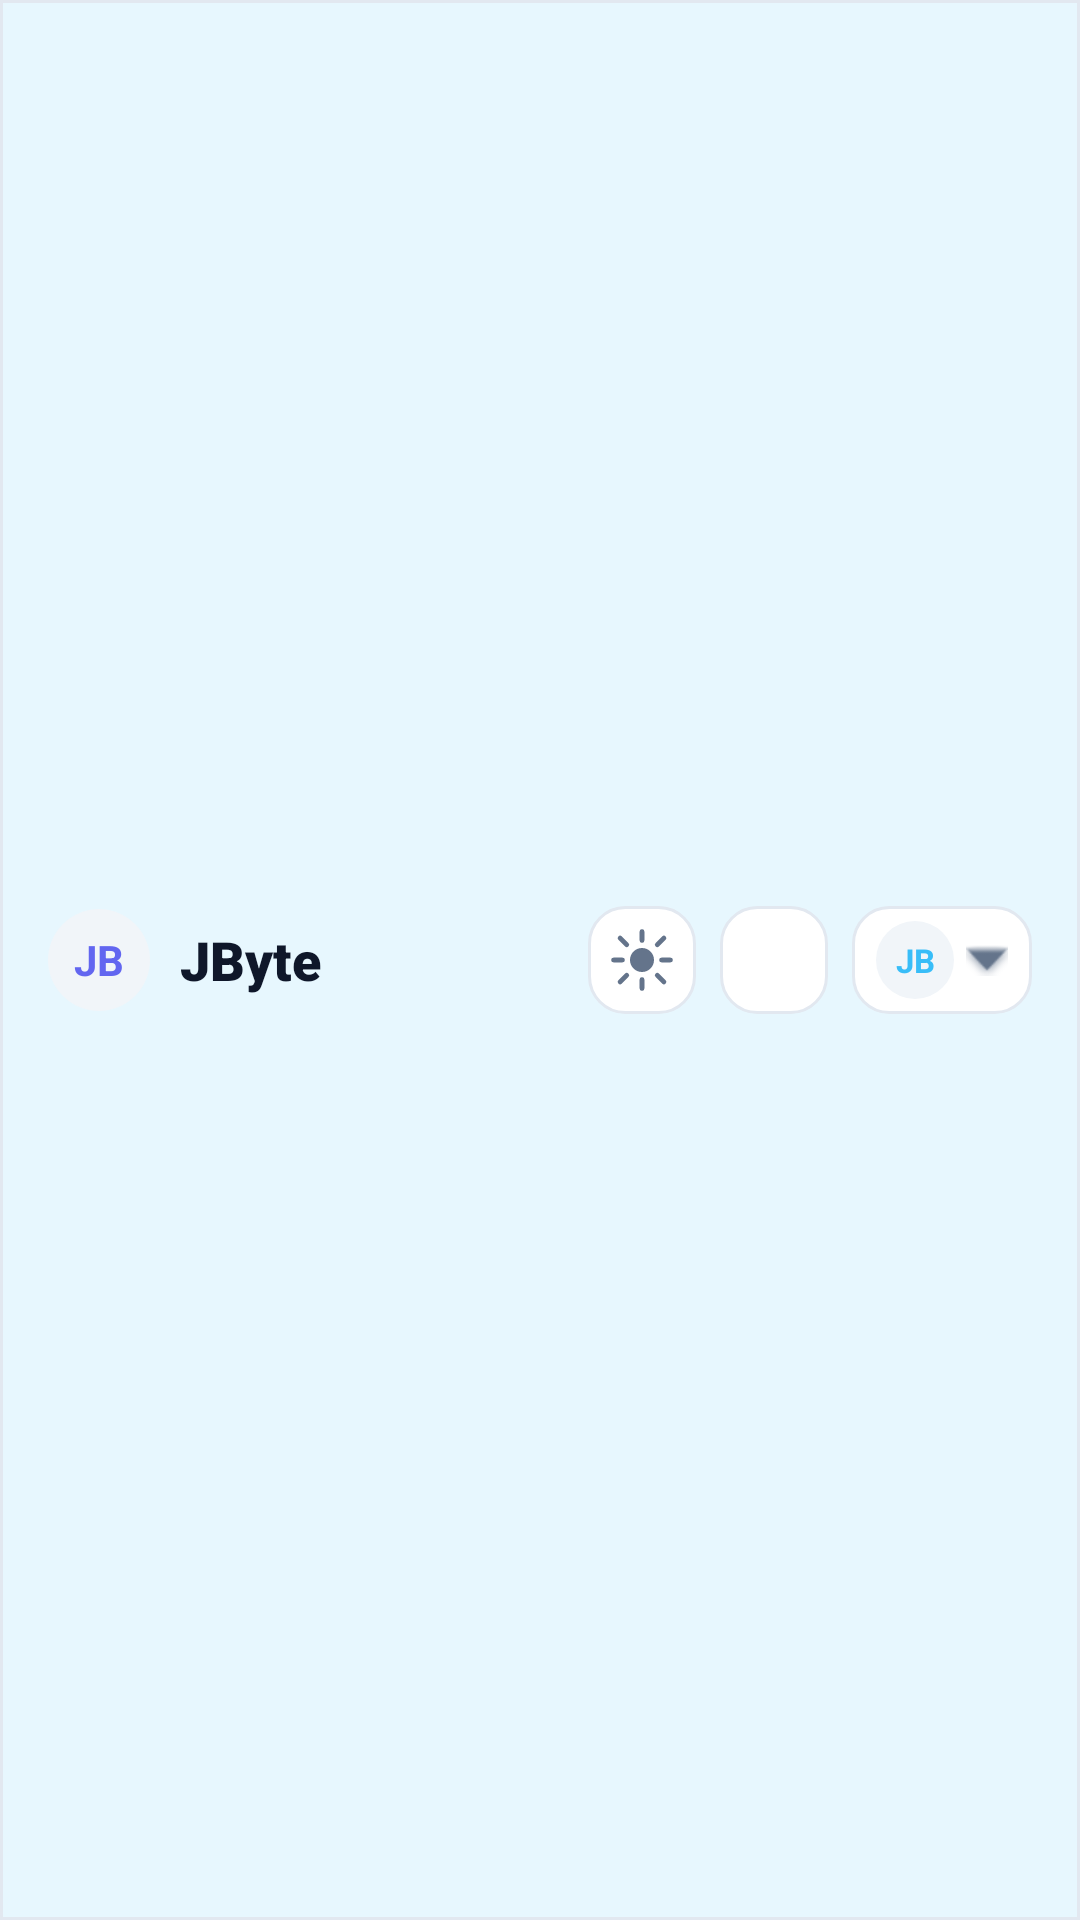

Icon bounding boxes for this 1080 × 1920 phone screenshot, format [x1,y1,x2,y2]:
arrow down float: [966,947,1008,973]
Theme: [591,909,693,1011]
